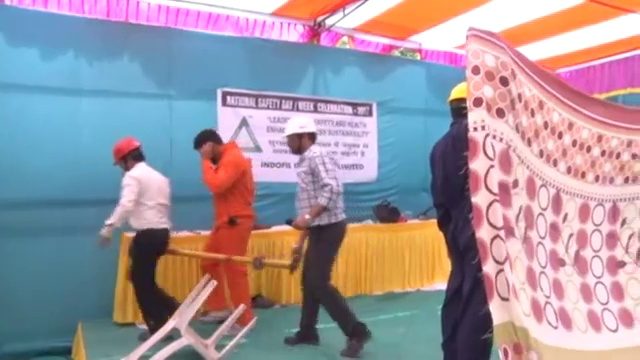helmet: (109, 136, 141, 165), (283, 114, 318, 139), (446, 78, 468, 104)
helmet_off: (192, 128, 225, 159)
helmet_on: (282, 116, 321, 156), (445, 77, 472, 129), (108, 136, 145, 173)
person: (280, 115, 372, 358), (96, 135, 188, 344), (427, 78, 493, 358), (188, 128, 258, 330)
